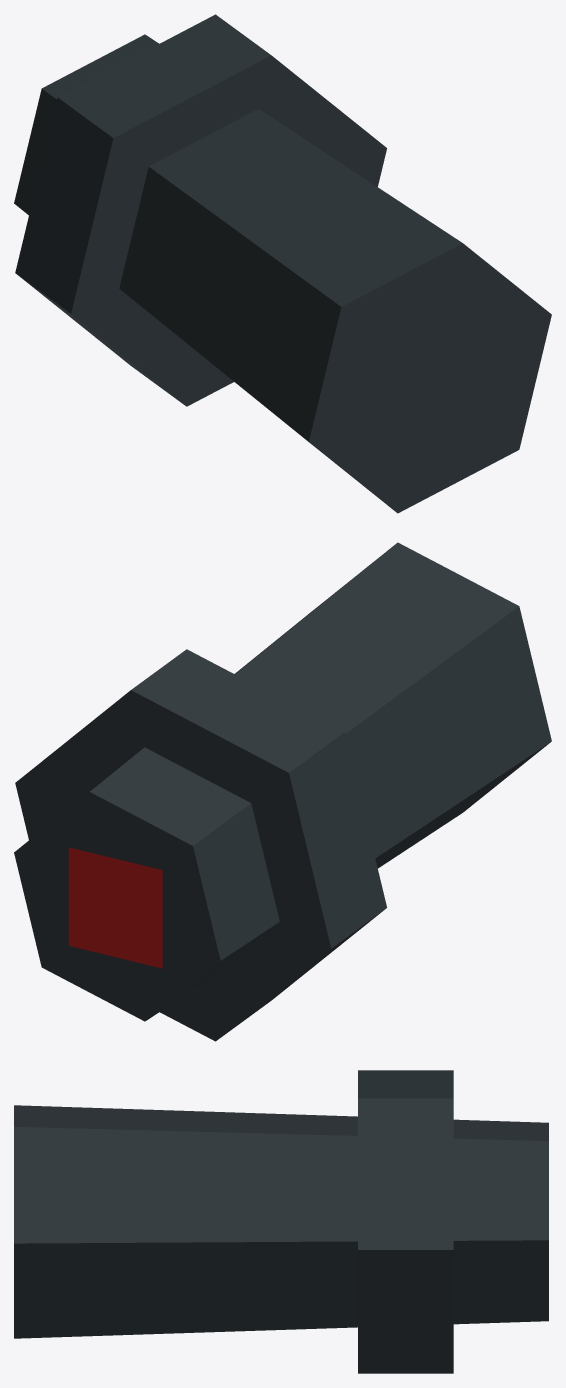
The picture shows the model from 3 angles, top to bottom: view 1: azimuth 30°, elevation 25°; view 2: azimuth 150°, elevation 25°; view 3: azimuth 270°, elevation 25°; orthographic projection. The views are drawn at different scales.
Visible parts, largest first — view 1: mount; view 2: mount; view 3: mount.
Boxes of the visible parts, left/top/right/bottom form: mount: left=14, top=14, right=551, bottom=513; mount: left=14, top=542, right=551, bottom=1041; mount: left=14, top=1070, right=548, bottom=1373.
Bounding box in the file's own units: 3.26 × 3.26 × 5.63.
